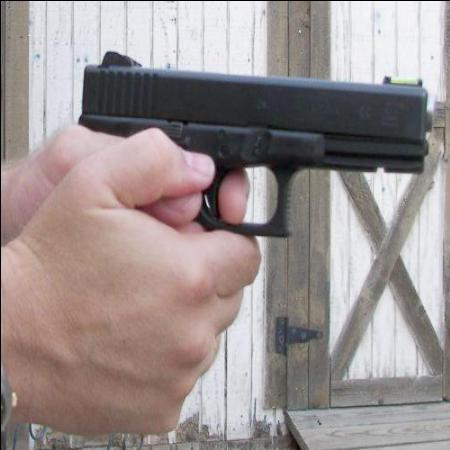Pistol: (81, 46, 433, 238)
